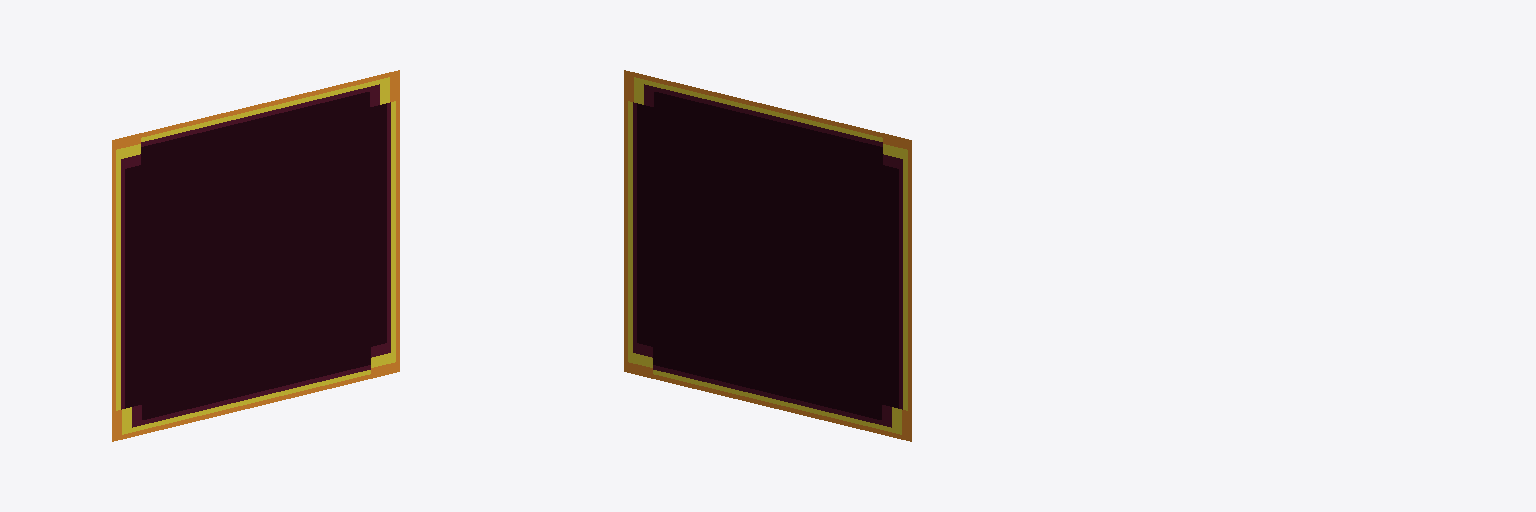
3 views of the same model, side by side, from view 1: azimuth 30°, elevation 25°; view 2: azimuth 150°, elevation 25°; view 3: azimuth 270°, elevation 25° (orthographic).
Size of the model in its own units: 2 by 2 by 0.
1 materials, 1 textured.